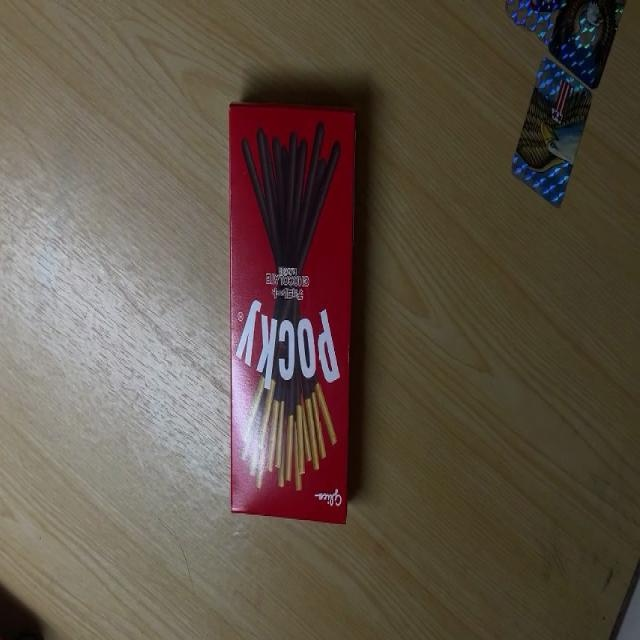Pocky: (226, 104, 356, 526)
